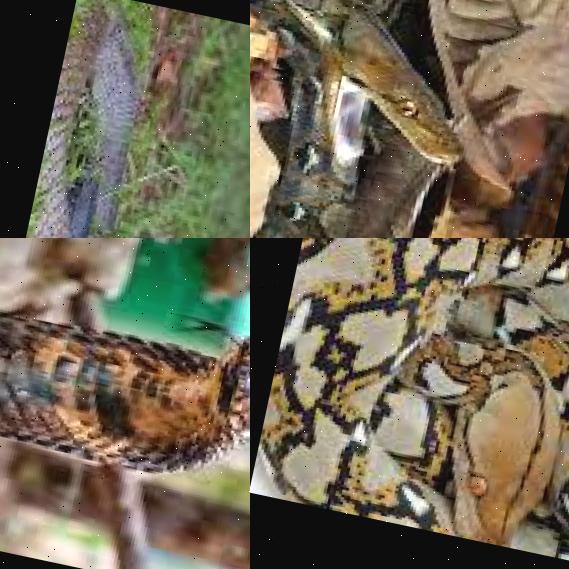snake: (250, 238, 569, 569), (0, 238, 250, 569), (250, 0, 525, 238), (0, 0, 250, 238)
